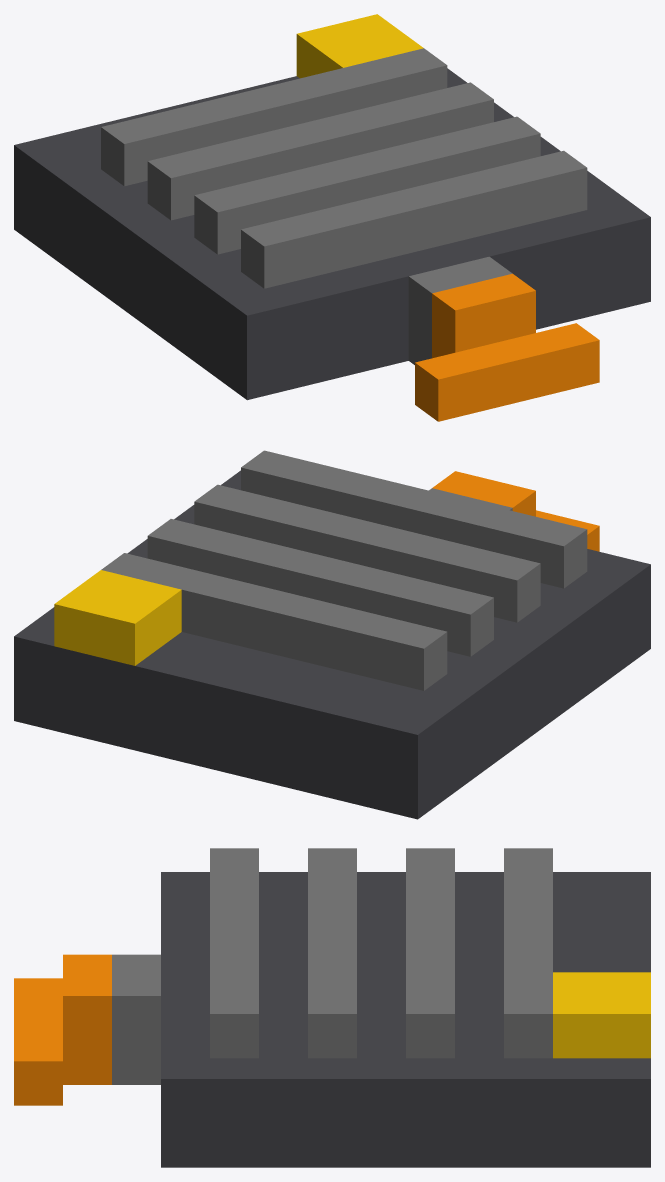
The model's file is batterybefore.obj.
The picture shows the model from 3 angles, top to bottom: view 1: azimuth 30°, elevation 25°; view 2: azimuth 150°, elevation 25°; view 3: azimuth 270°, elevation 25°; orthographic projection. The views are drawn at different scales.
Bounding box in the file's own units: 1 × 0.3 × 1.3.
Materials: 1 (1 with a texture image).
